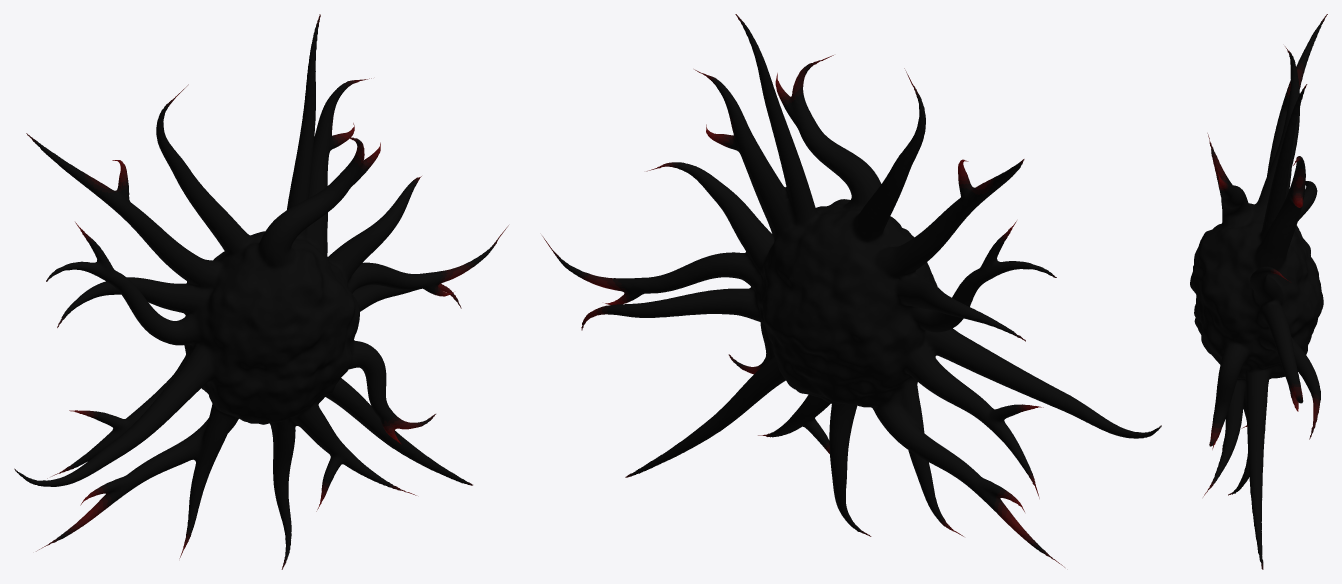
File: symbiote.glb
3 renders of one model, left to right at view 1: azimuth 30°, elevation 25°; view 2: azimuth 150°, elevation 25°; view 3: azimuth 270°, elevation 25°, orthographic. The views are drawn at different scales.
Visible parts, largest first — view 1: Symbiote; view 2: Symbiote; view 3: Symbiote.
Part boxes in pixels (x1,y1,x2,y2): Symbiote: (14, 14, 508, 569); Symbiote: (542, 14, 1161, 567); Symbiote: (1190, 14, 1327, 569).
Bounding box in the file's own units: 8.37 × 7.45 × 2.08.
